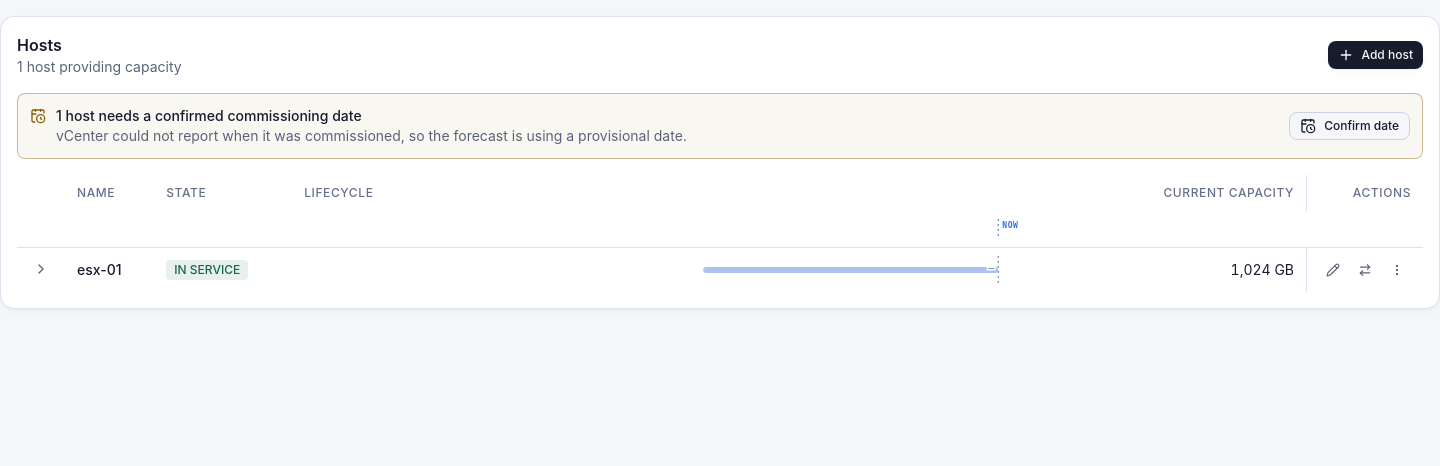
Test: HostsTab › flags the provisional date with a non-colour-only badge in the expanded row
Expected: the text "esx-01" is shown, [77, 260, 122, 278]
Click the button named "Expand history": [41, 269] box [29, 257, 53, 281]
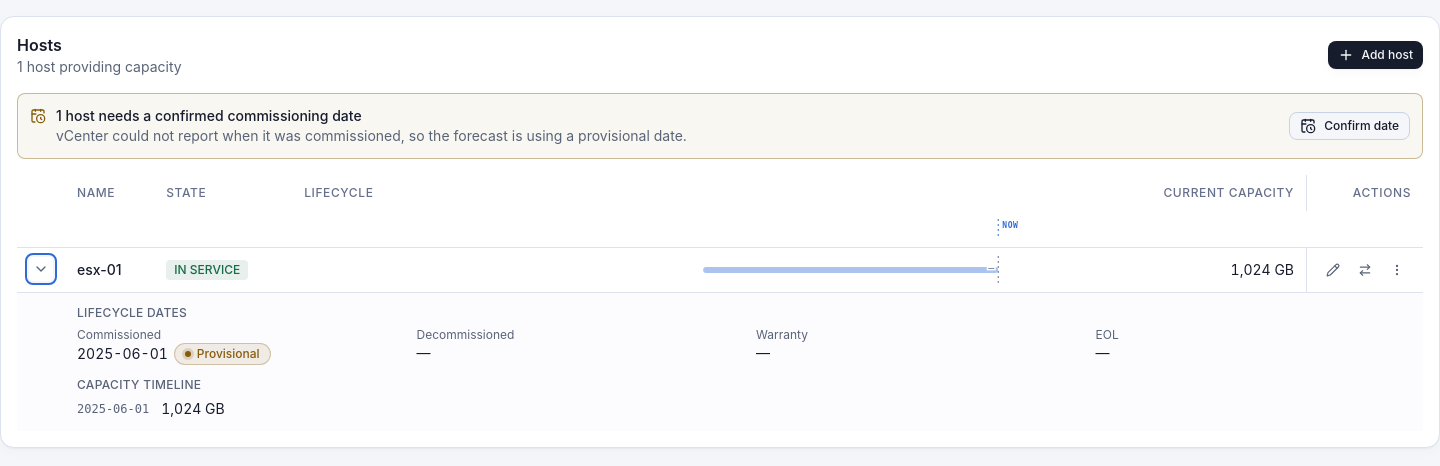
Now the text "Provisional" is shown, box [174, 342, 271, 364]
